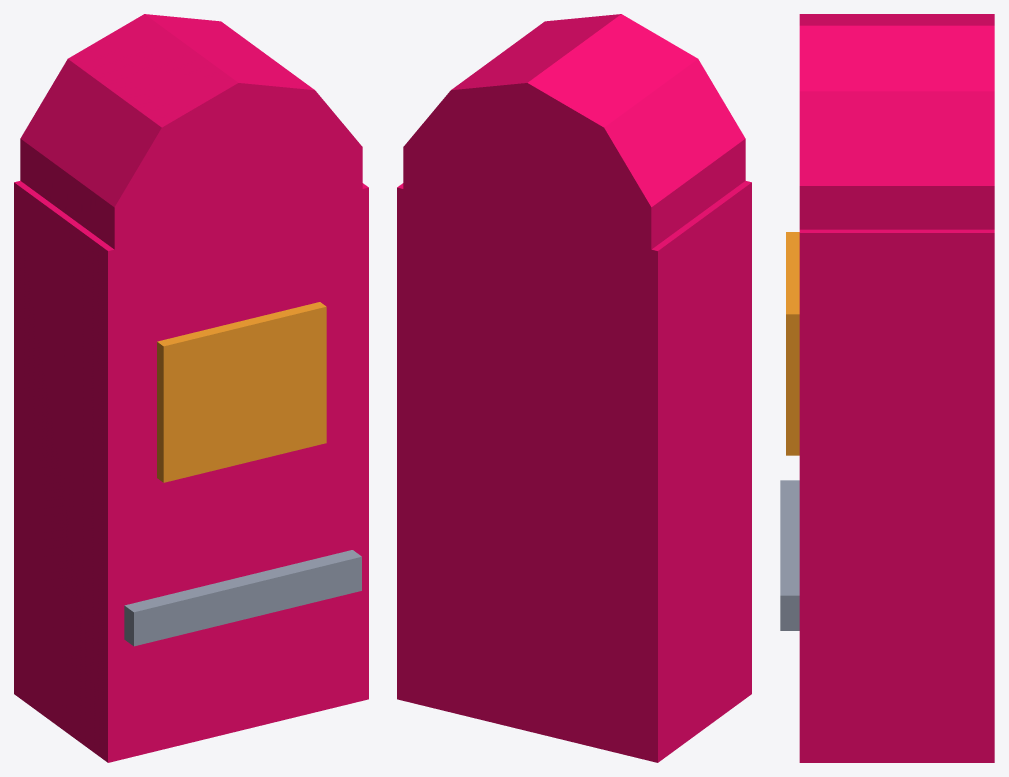
The model's file is arcade_jukebox.obj.
The picture shows the model from 3 angles, left to right: view 1: azimuth 30°, elevation 25°; view 2: azimuth 150°, elevation 25°; view 3: azimuth 270°, elevation 25°; orthographic projection. The views are drawn at different scales.
Visible parts, largest first — view 1: arcade_jukebox; view 2: arcade_jukebox; view 3: arcade_jukebox.
Boxes of the visible parts, left/top/right/bottom form: arcade_jukebox: left=14, top=14, right=368, bottom=762; arcade_jukebox: left=397, top=14, right=751, bottom=762; arcade_jukebox: left=780, top=14, right=994, bottom=762.
Size of the model in its own units: 0.8 by 1.9 by 0.55.
